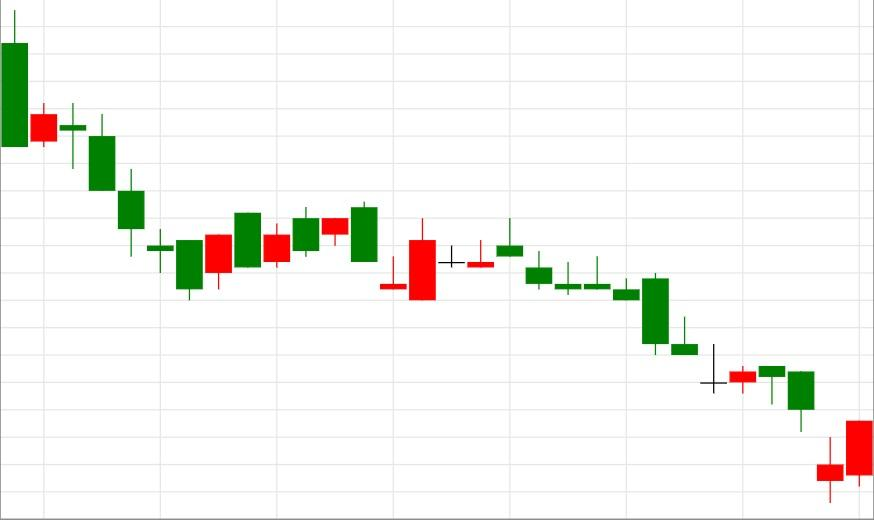bearish_engulfing_fall: (176, 201, 378, 302)
